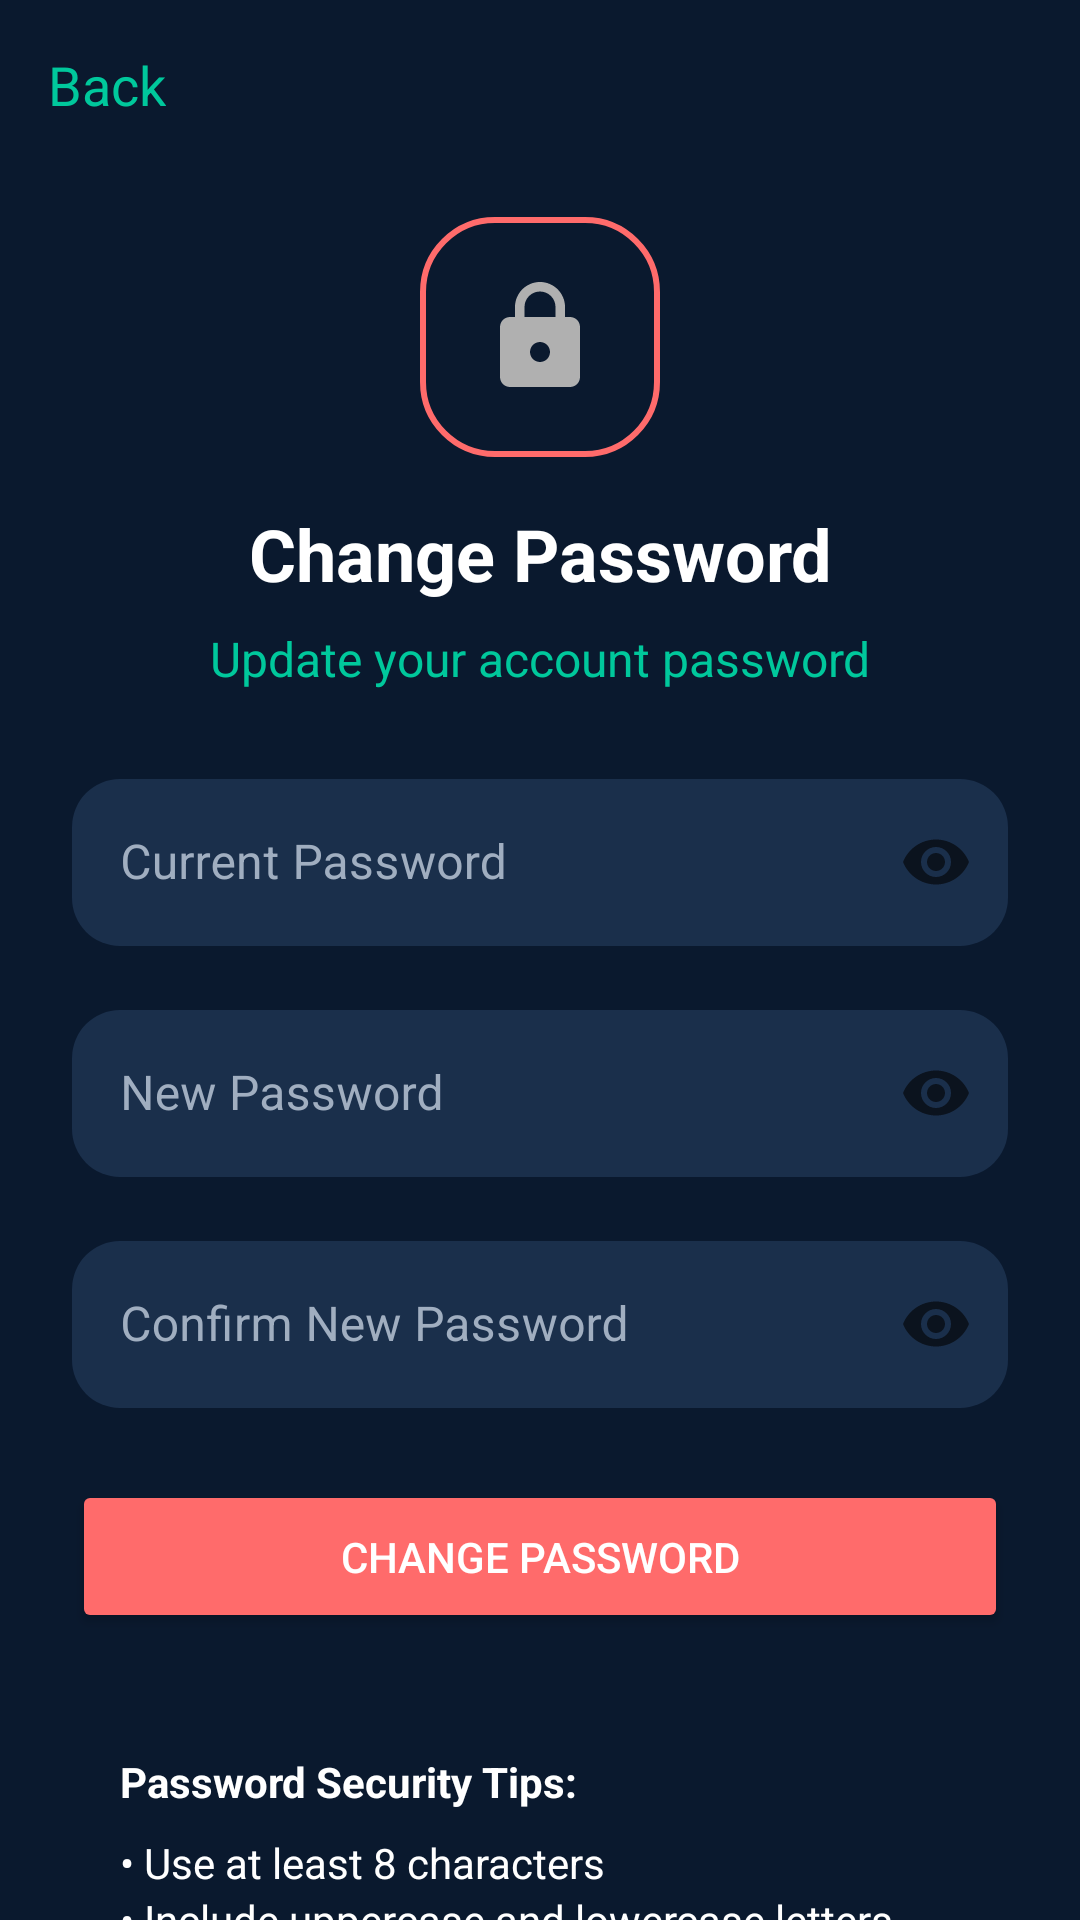

Screen size 1080px x 1920px. Icon name, then its center in pixels as [x,y]:
lock: [540,337]
